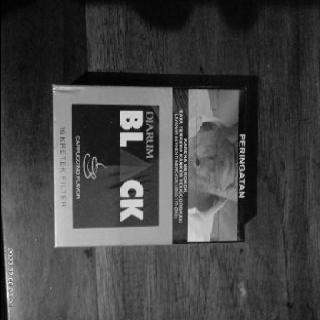objects: (52, 85, 245, 247)
